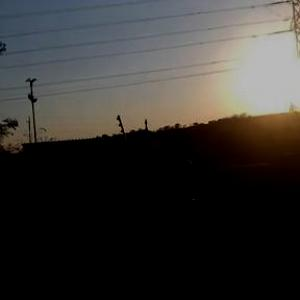follow: (142, 148, 238, 299)
